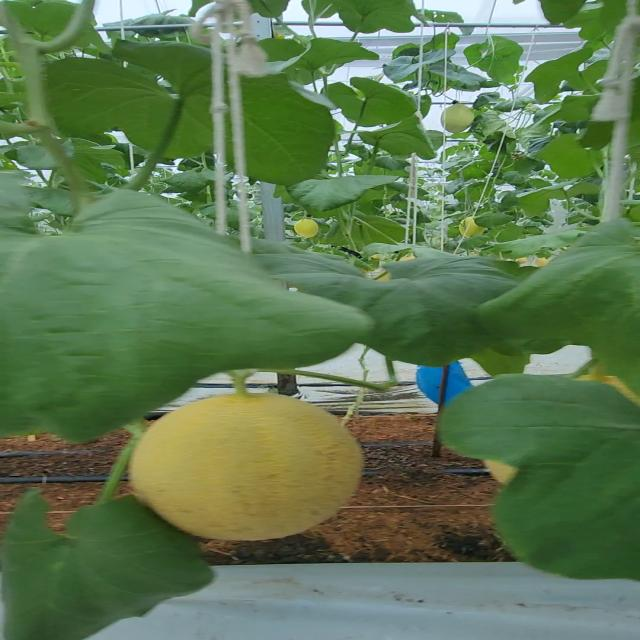Melon: (118, 391, 371, 547)
